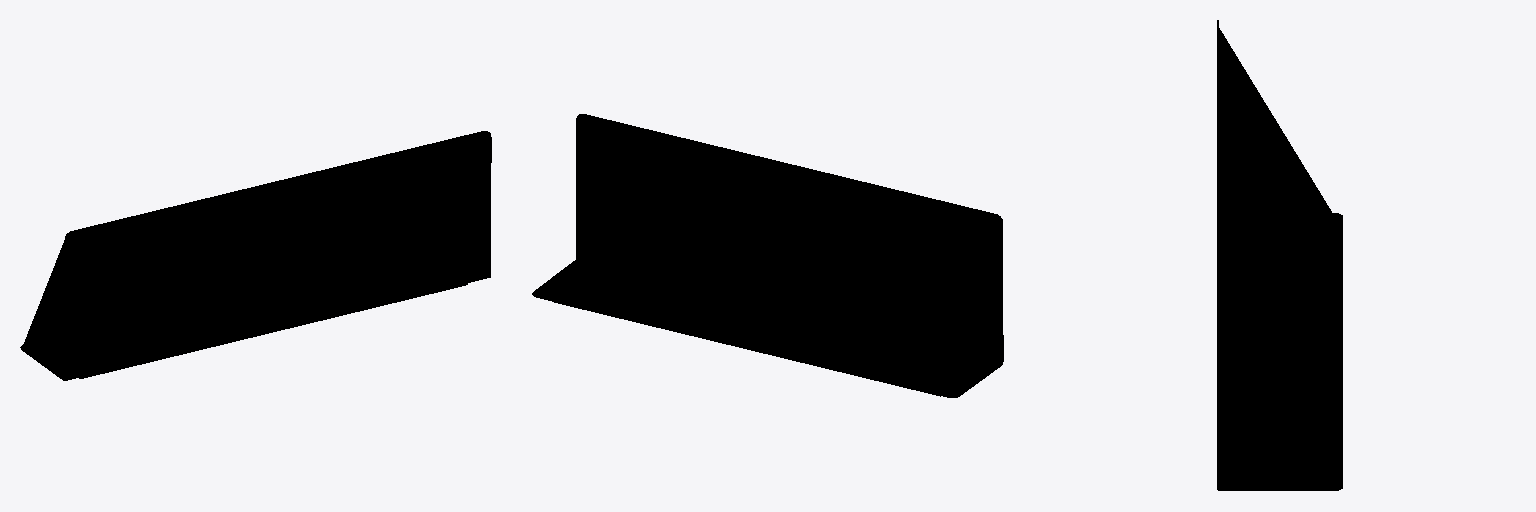
URDF robot description (model.urdf):
<?xml version="0.0" ?>
<robot name="model.urdf">
  <link name="baseLink">
    <contact>
      <friction_anchor/>
      <lateral_friction value="0.3"/>
      <rolling_friction value="0.0"/>
      <contact_cfm value="0.0"/>
      <contact_erp value="1.0"/>
    </contact>
    <inertial>
       <origin rpy="0 0 0" xyz="0 0 0"/>
       <mass value="0.1"/>
       <inertia ixx="8e-05" ixy="0" ixz="0" iyy="0.0002" iyz="0" izz="0.0002"/>
    </inertial>
    <visual>
          <origin xyz="0 0 0" rpy="0 -1.57  0"/>
      <geometry>
        <mesh filename="shelf.obj" scale="0.001 0.001 0.001"/>
      </geometry>
      <material name="Black">
        <color rgba="0 0 0 1"/>
      </material>
    </visual>
    <collision>
          <origin xyz="0 0 0" rpy="0 -1.57 0"/>
      <geometry>
        <mesh filename="shelf.obj" scale="0.001 0.001 0.001"/>
      </geometry>
    </collision>
  </link>
</robot>

--- Facts derived from the render (not from the file) ---
Views: 3 orthographic renders of the robot side by side, from view 1: azimuth 30°, elevation 25°; view 2: azimuth 150°, elevation 25°; view 3: azimuth 270°, elevation 25°.
Model model.urdf with 1 links and 0 joints (none), rooted at baseLink, posed every joint at zero.
Visible links, largest first — view 1: baseLink; view 2: baseLink; view 3: baseLink.
Boxes of the visible links, x1,y1,x2,y2 form: baseLink: [20, 131, 491, 380]; baseLink: [532, 114, 1003, 397]; baseLink: [1217, 20, 1342, 490].
Bounding box of the posed robot: 0.6062 × 0.1175 × 0.21 m (x, y, z).
1 mesh visuals loaded from 1 distinct referenced files (1 OBJ).
